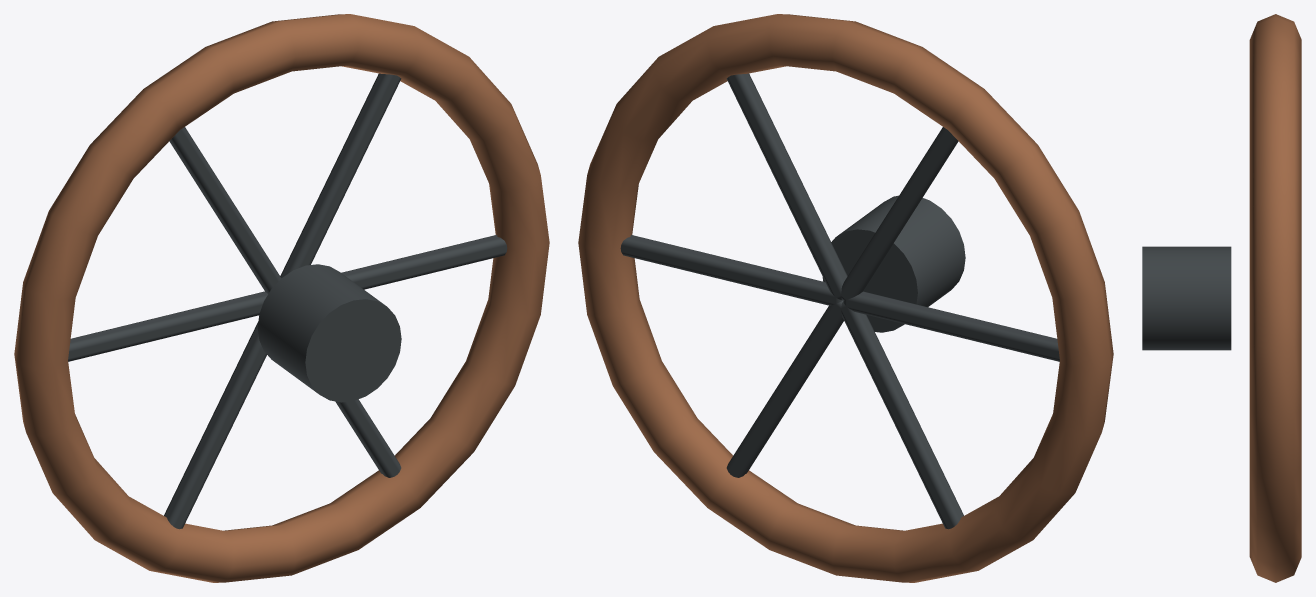
File: undercity-sewers-and-thieves-den-valve-wheel-4a516b47__27195.glb
The picture shows the model from 3 angles, left to right: view 1: azimuth 30°, elevation 25°; view 2: azimuth 150°, elevation 25°; view 3: azimuth 270°, elevation 25°; orthographic projection. The views are drawn at different scales.
Parts seen in each view (by area): view 1: valve-wheel; view 2: valve-wheel; view 3: valve-wheel.
Part boxes in pixels (<box>): valve-wheel: <box>14,14,549,582</box>; valve-wheel: <box>578,14,1113,582</box>; valve-wheel: <box>1142,14,1301,582</box>.
Size of the model in its own units: 0.77 by 0.77 by 0.215.
